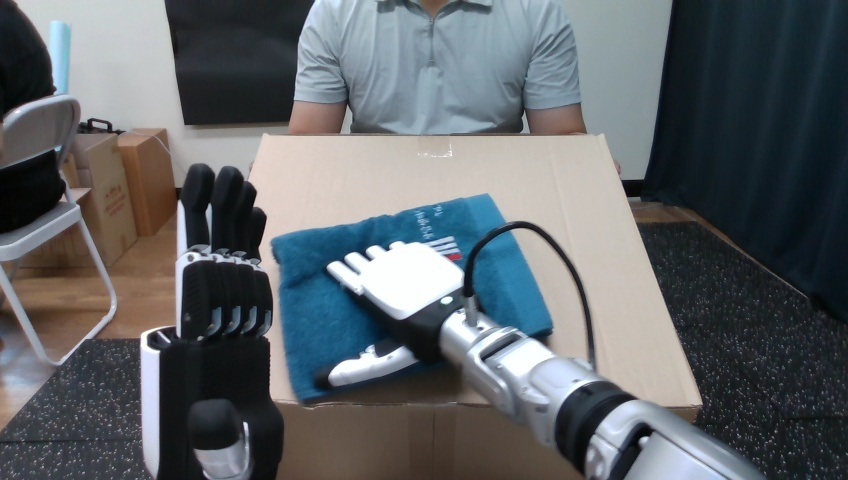left robot hand: (320, 221, 763, 479), (141, 164, 282, 478), (471, 228, 589, 362)
